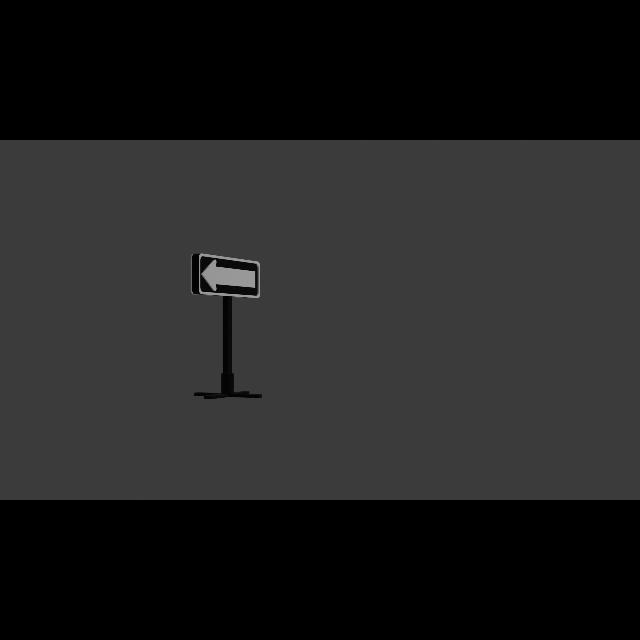sign_oneway_left: (191, 253, 264, 300)
